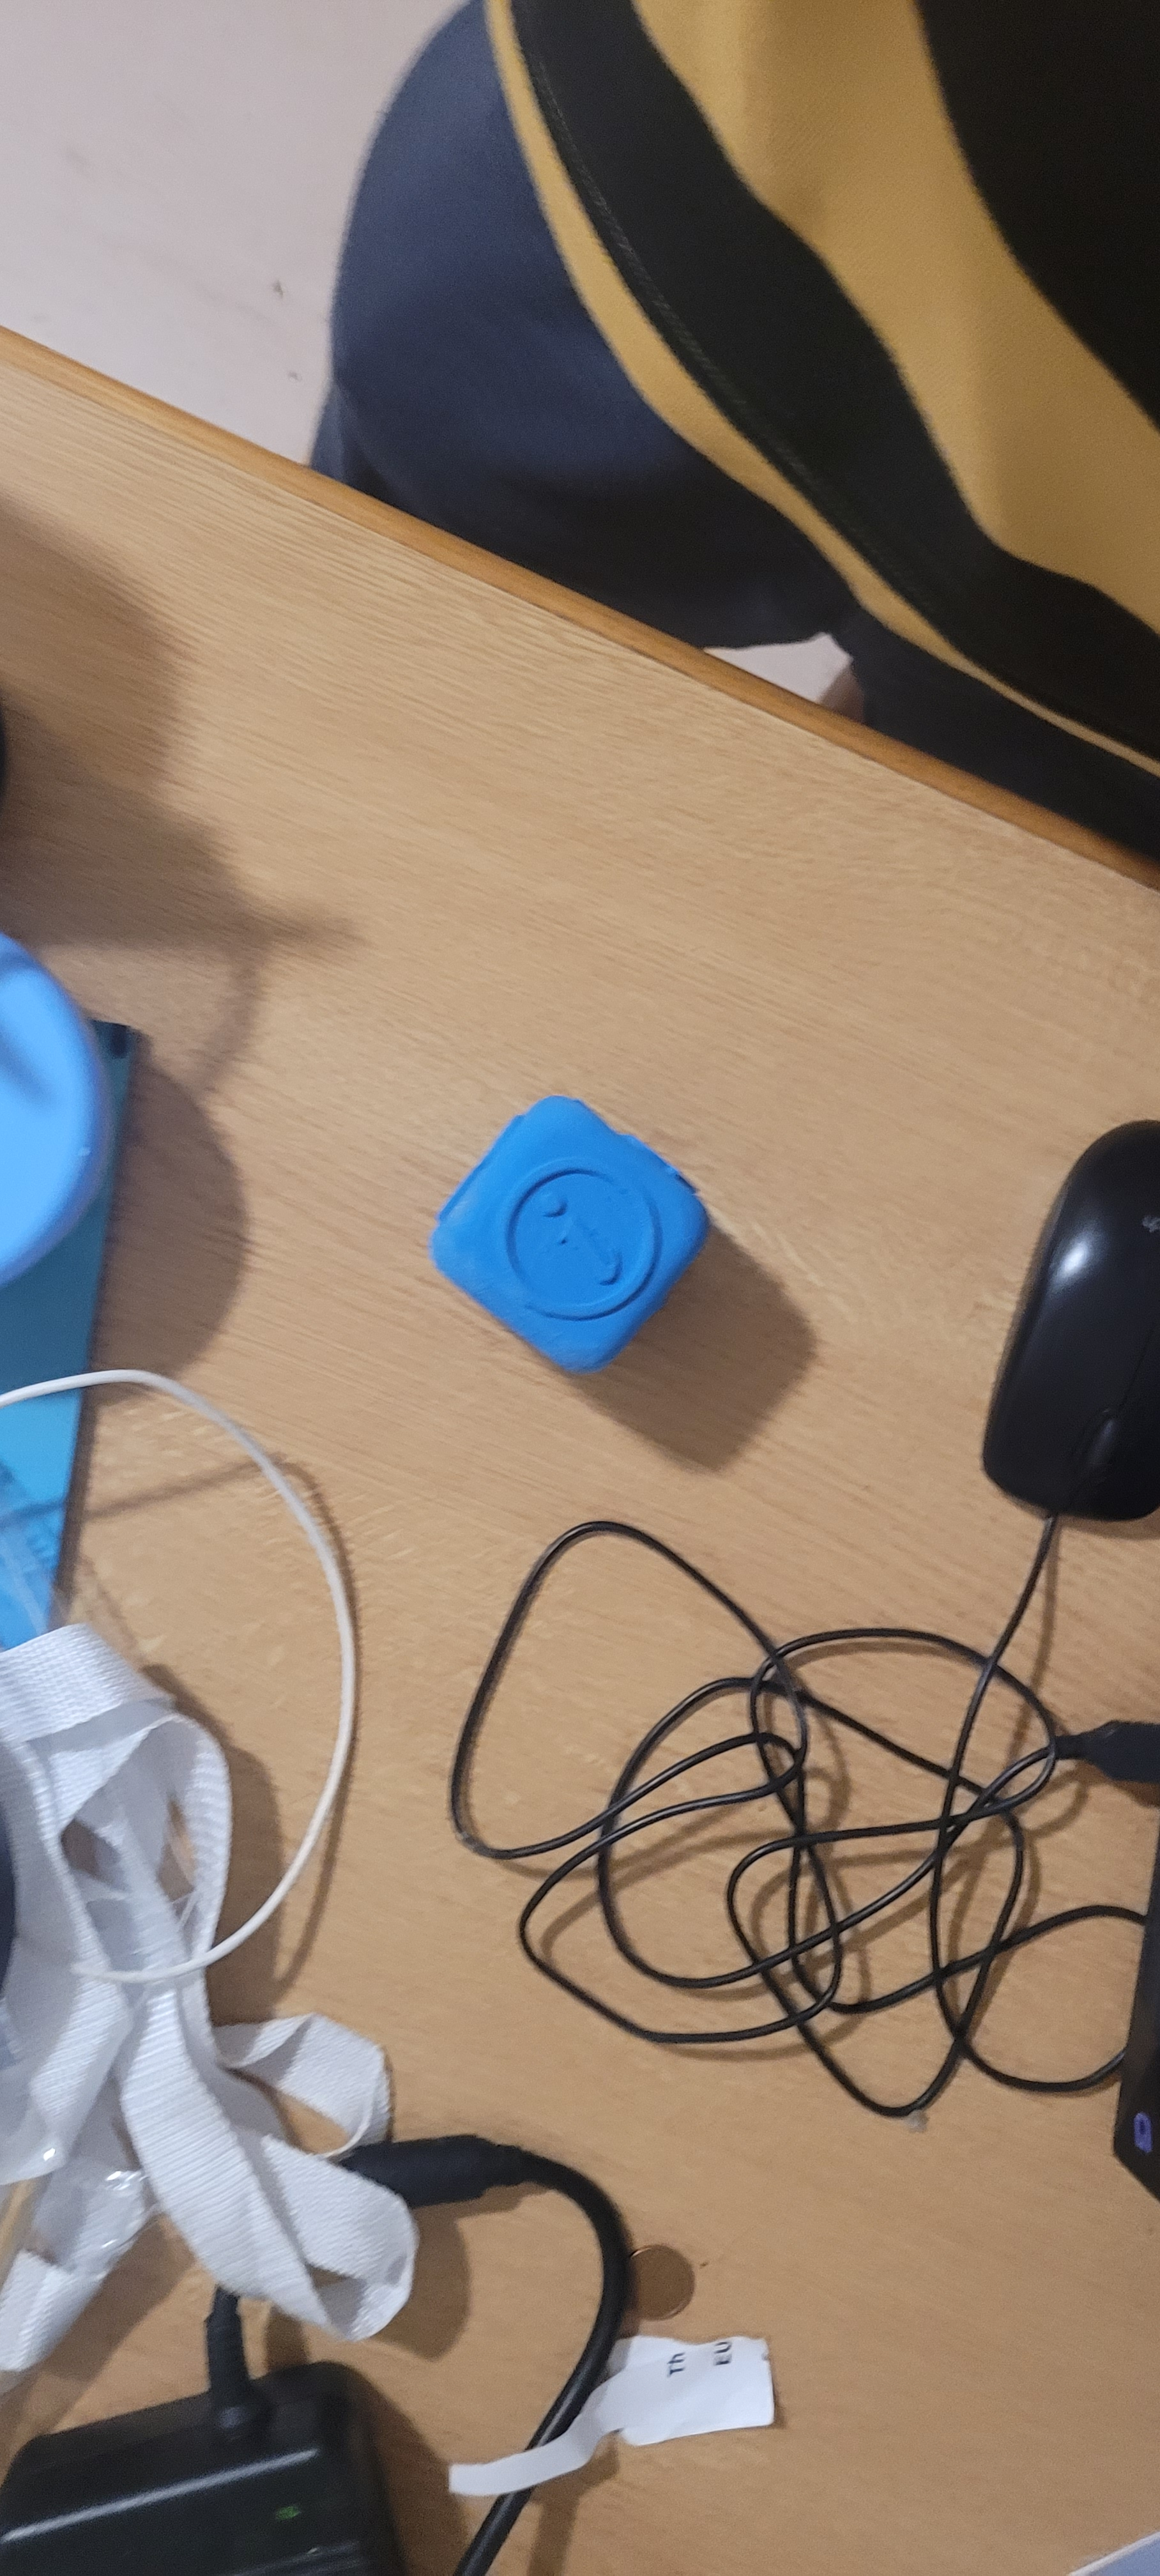Info: (426, 1143, 711, 1380)
